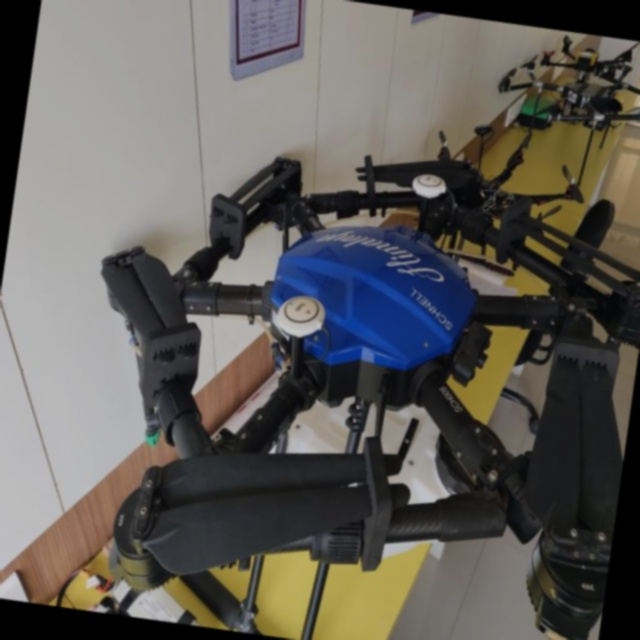agriculturedrone: (49, 118, 640, 640)
